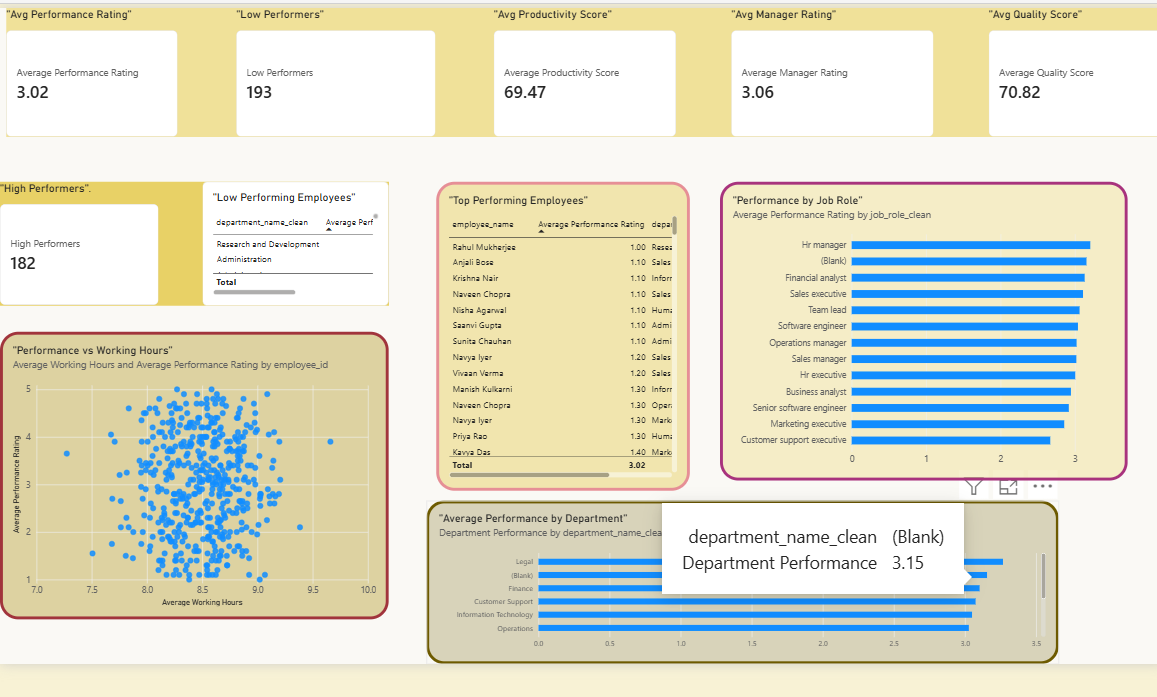

The dashboard page shown, as its layout file describes it:
{"tool":"powerbi","page":{"name":"Performance","canvas":[1920,1080],"ordinal":2},"visuals":[{"type":"cardVisual","title":"\"Avg Performance Rating\"","fields":{"Data":["_Measures.Average Performance Rating"]},"box":[10.3,0,282.1,212],"z":0,"group":"g1"},{"type":"cardVisual","title":"\"Avg Productivity Score\"","fields":{"Data":["_Measures.Average Productivity Score"]},"box":[812.7,0,300.6,212],"z":1,"group":"g1"},{"type":"cardVisual","title":"\"Avg Quality Score\"","fields":{"Data":["_Measures.Average Quality Score"]},"box":[1629.1,0,291.4,212],"z":2,"group":"g1"},{"type":"cardVisual","title":"\"Low Performers\"","fields":{"Data":["_Measures.Low Performers"]},"box":[389.6,0,328.4,212],"z":3,"group":"g1"},{"type":"cardVisual","title":"\"High Performers\".","fields":{"Data":["_Measures.High Performers"]},"box":[0,286.1,261.4,203.8],"z":4,"group":"g2"},{"type":"clusteredBarChart","title":"\"Average Performance by Department\"","fields":{"Category":["employee_hr_analytics clean_departments.department_name_clean"],"Y":["_Measures.Department Performance"]},"box":[701.9,811,1041.5,269.6],"z":5},{"type":"clusteredBarChart","title":"\"Performance by Job Role\"","fields":{"Category":["employee_hr_analytics clean_job_roles.job_role_clean"],"Y":["_Measures.Average Performance Rating"]},"box":[1185.6,286.1,671,491.9],"z":6},{"type":"tableEx","title":"\"Top Performing Employees\"","fields":{"Values":["employee_hr_analytics clean_employees.employee_name","_Measures.Average Performance Rating","employee_hr_analytics clean_departments.department_name_clean"]},"box":[718.4,286.1,417.8,508.4],"z":7},{"type":"tableEx","title":"\"Low Performing Employees\"","fields":{"Values":["employee_hr_analytics clean_departments.department_name_clean","_Measures.Average Performance Rating","employee_hr_analytics clean_employees.employee_name"]},"box":[333.4,286.1,306.7,203.8],"z":8,"group":"g2"},{"type":"cardVisual","title":"\"Avg Manager Rating\"","fields":{"Data":["_Measures.Average Manager Rating"]},"box":[1203.6,0,333,212],"z":9,"group":"g1"},{"type":"scatterChart","title":"\"Performance vs Working Hours\"","fields":{"Category":["employee_hr_analytics clean_employees.employee_id"],"X":["_Measures.Average Working Hours"],"Y":["_Measures.Average Performance Rating"]},"box":[0,533.1,640.1,473.4],"z":10},{"type":"group","id":"g1","title":"Group 1","box":[10.3,0,1910.1,212],"z":11},{"type":"group","id":"g2","title":"Group 2","box":[0,286.1,640.1,203.8],"z":12}]}

Visuals, with their boxes on the page's 1920x1080 design canvas (x1, y1, x2, y2). These are canvas units, not pixel positions in the 1157x697 screenshot, which may show the page scaled, cropped or inside an application window:
""Avg Performance Rating"" cardVisual: (left=10, top=0, right=292, bottom=212)
""Avg Productivity Score"" cardVisual: (left=813, top=0, right=1113, bottom=212)
""Avg Quality Score"" cardVisual: (left=1629, top=0, right=1920, bottom=212)
""Low Performers"" cardVisual: (left=390, top=0, right=718, bottom=212)
""High Performers"." cardVisual: (left=0, top=286, right=261, bottom=490)
""Average Performance by Department"" clusteredBarChart: (left=702, top=811, right=1743, bottom=1081)
""Performance by Job Role"" clusteredBarChart: (left=1186, top=286, right=1857, bottom=778)
""Top Performing Employees"" tableEx: (left=718, top=286, right=1136, bottom=794)
""Low Performing Employees"" tableEx: (left=333, top=286, right=640, bottom=490)
""Avg Manager Rating"" cardVisual: (left=1204, top=0, right=1537, bottom=212)
""Performance vs Working Hours"" scatterChart: (left=0, top=533, right=640, bottom=1006)
"Group 1" group: (left=10, top=0, right=1920, bottom=212)
"Group 2" group: (left=0, top=286, right=640, bottom=490)
